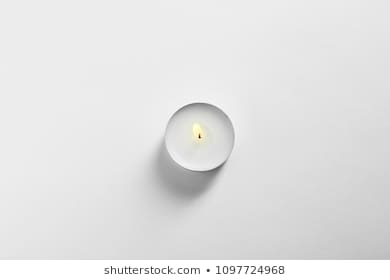Fire: (188, 122, 205, 141)
